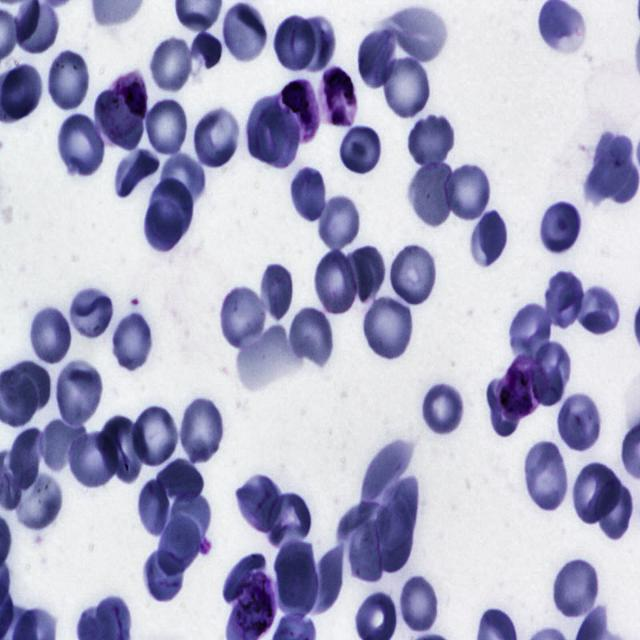difficult: (494, 352, 550, 419)
red blood cell: (271, 539, 321, 619), (383, 7, 449, 67), (339, 504, 386, 588), (220, 551, 274, 624), (523, 437, 571, 517), (586, 136, 640, 207), (363, 436, 414, 511), (143, 176, 194, 250), (97, 412, 150, 482), (376, 474, 420, 557), (129, 400, 181, 470), (380, 53, 432, 122), (67, 423, 119, 492), (406, 157, 454, 231), (248, 96, 296, 170), (217, 283, 270, 350), (10, 468, 62, 536), (177, 393, 225, 466), (363, 294, 413, 364), (570, 458, 623, 524), (53, 360, 102, 429), (312, 245, 358, 318), (551, 556, 601, 622), (388, 241, 438, 307), (56, 110, 106, 176), (192, 102, 242, 168), (1, 358, 55, 419), (260, 490, 314, 549), (66, 282, 116, 344), (527, 337, 573, 404), (376, 498, 416, 575), (273, 10, 318, 78), (152, 511, 199, 576), (235, 471, 285, 532), (444, 160, 492, 223), (220, 2, 268, 65), (38, 414, 86, 475), (46, 47, 91, 112), (536, 4, 589, 59), (509, 301, 556, 363), (94, 91, 146, 147), (311, 538, 348, 616), (407, 114, 457, 170), (28, 302, 72, 365), (287, 305, 333, 365), (152, 457, 206, 508), (556, 392, 602, 451), (148, 34, 194, 93), (316, 193, 362, 252), (145, 95, 188, 158), (110, 310, 153, 373), (154, 152, 206, 204), (538, 198, 584, 256), (358, 28, 404, 86), (544, 266, 585, 331), (171, 494, 213, 556), (0, 64, 43, 124), (295, 10, 334, 76), (14, 0, 58, 58), (572, 282, 619, 336), (399, 573, 440, 634), (11, 421, 43, 495), (136, 474, 172, 539), (346, 245, 385, 304), (422, 382, 463, 438), (143, 546, 184, 602), (290, 165, 330, 222), (594, 482, 633, 540), (484, 378, 521, 439), (258, 260, 292, 326), (340, 121, 378, 180), (468, 212, 506, 270), (115, 150, 158, 200)
trophozoite: (274, 75, 320, 145), (318, 65, 357, 130), (112, 71, 148, 119)
